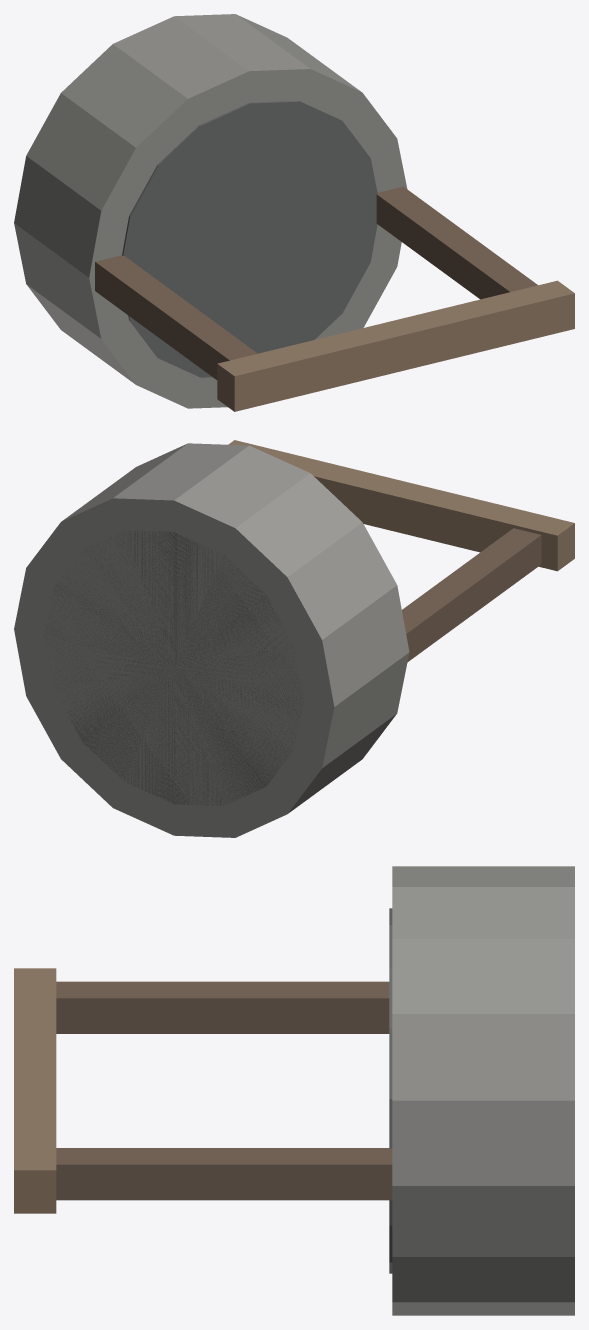
The model's file is SM_StoneWell.glb.
3 views of the same model, one above another, from view 1: azimuth 30°, elevation 25°; view 2: azimuth 150°, elevation 25°; view 3: azimuth 270°, elevation 25° (orthographic). The views are drawn at different scales.
Visible parts, largest first — view 1: SM_StoneWell_part00, SM_StoneWell_part01, SM_StoneWell_part04, SM_StoneWell_part02, SM_StoneWell_part03; view 2: SM_StoneWell_part00, SM_StoneWell_part01, SM_StoneWell_part04, SM_StoneWell_part02; view 3: SM_StoneWell_part00, SM_StoneWell_part03, SM_StoneWell_part02, SM_StoneWell_part04, SM_StoneWell_part01.
Boxes of the visible parts, box(x1,y1,x2,y2) form: SM_StoneWell_part00: box(14, 14, 407, 408); SM_StoneWell_part01: box(122, 101, 377, 377); SM_StoneWell_part04: box(217, 280, 574, 411); SM_StoneWell_part02: box(95, 255, 257, 379); SM_StoneWell_part03: box(376, 186, 537, 299); SM_StoneWell_part00: box(14, 443, 409, 837); SM_StoneWell_part01: box(44, 530, 304, 805); SM_StoneWell_part04: box(228, 440, 574, 571); SM_StoneWell_part02: box(402, 528, 541, 662); SM_StoneWell_part00: box(392, 866, 574, 1315); SM_StoneWell_part03: box(56, 1148, 392, 1200); SM_StoneWell_part02: box(56, 981, 389, 1033); SM_StoneWell_part04: box(14, 968, 56, 1213); SM_StoneWell_part01: box(389, 908, 392, 1273).
Size of the model in its own units: 1.7 by 1.6 by 2.
